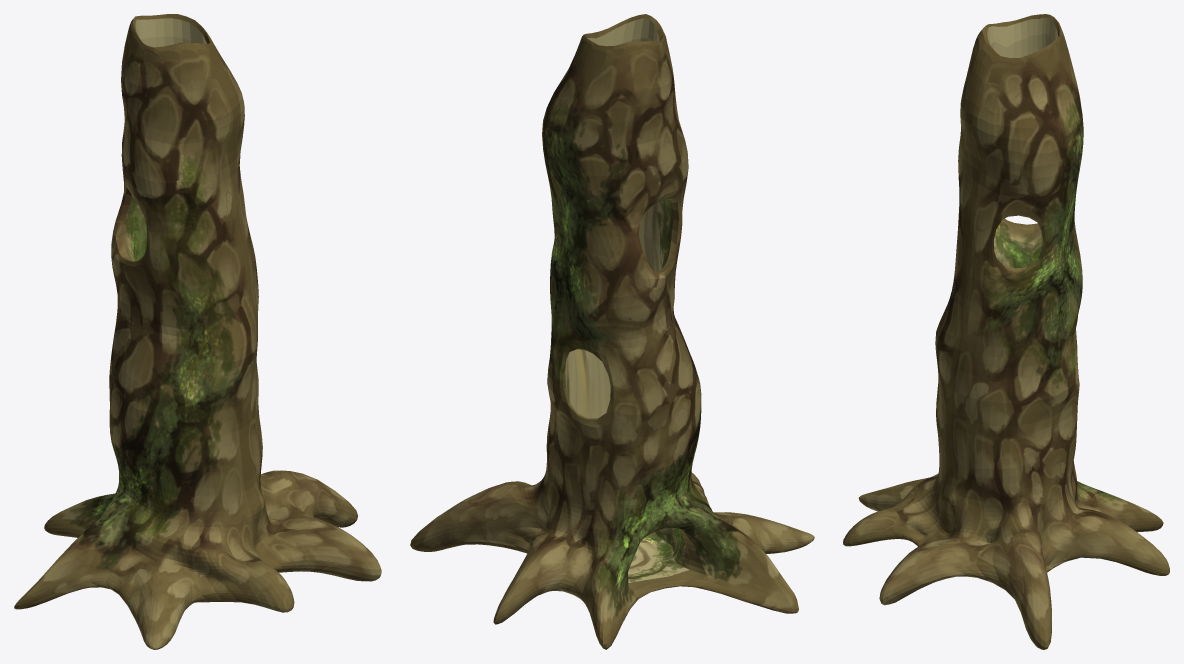
File: bigtree.fbx
3 views of the same model, side by side, from view 1: azimuth 30°, elevation 25°; view 2: azimuth 150°, elevation 25°; view 3: azimuth 270°, elevation 25° (orthographic). The views are drawn at different scales.
Visible parts, largest first — view 1: pCylinder9; view 2: pCylinder9; view 3: pCylinder9.
Part boxes in pixels (box(x1,y1,x2,y2)): pCylinder9: box(14, 14, 381, 649); pCylinder9: box(410, 14, 814, 649); pCylinder9: box(843, 14, 1169, 649).
Size of the model in its own units: 2157 by 3156 by 1751.
Materials: 1 (1 with a texture image).
